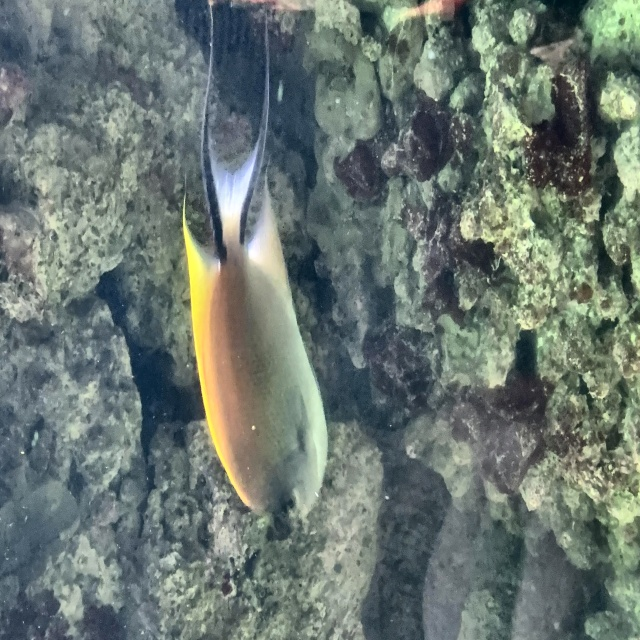fish: (183, 0, 329, 518)
